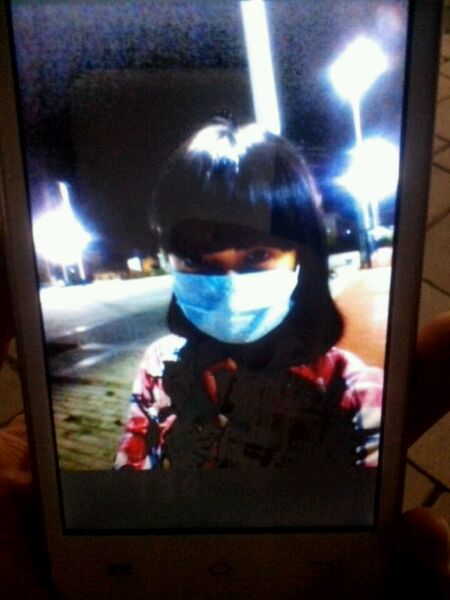face_mask: (177, 195, 291, 344)
